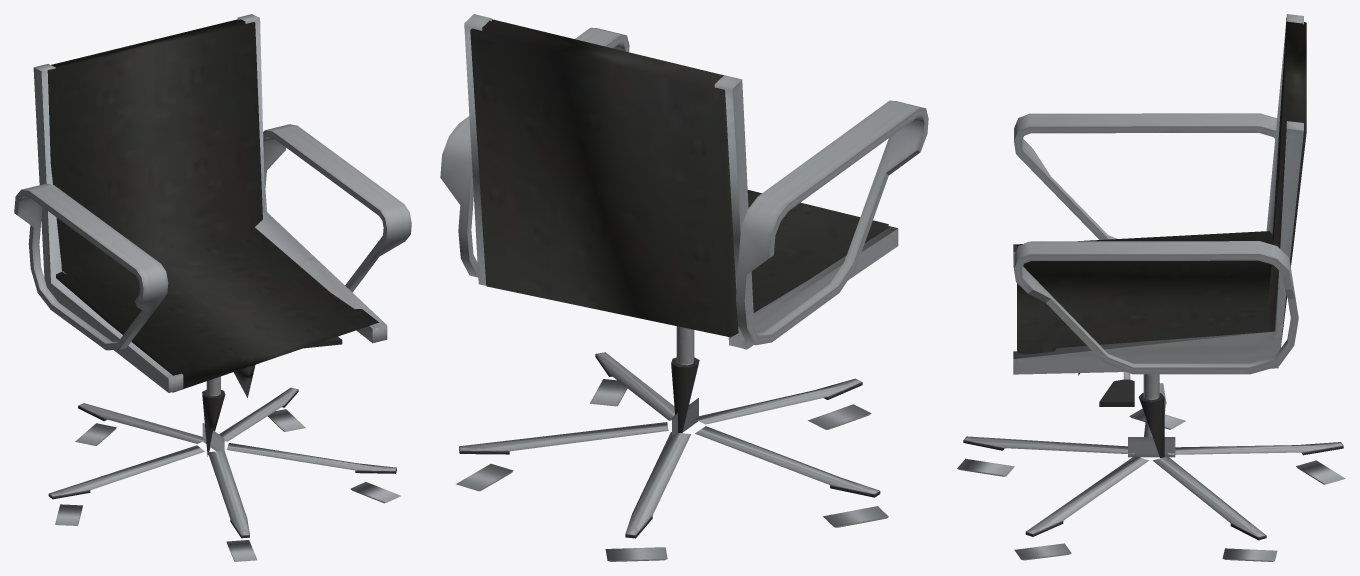
The model's file is office-chair.lod0.glb.
The picture shows the model from 3 angles, left to right: view 1: azimuth 30°, elevation 25°; view 2: azimuth 150°, elevation 25°; view 3: azimuth 270°, elevation 25°; orthographic projection. The views are drawn at different scales.
Parts seen in each view (by area): view 1: OfficeChair_Modern_OfficeChair_Modern_0; view 2: OfficeChair_Modern_OfficeChair_Modern_0; view 3: OfficeChair_Modern_OfficeChair_Modern_0.
Boxes of the visible parts, bbox=[...] form: OfficeChair_Modern_OfficeChair_Modern_0: bbox=[14, 14, 411, 561]; OfficeChair_Modern_OfficeChair_Modern_0: bbox=[440, 14, 928, 561]; OfficeChair_Modern_OfficeChair_Modern_0: bbox=[957, 14, 1345, 561].
Size of the model in its own units: 0.7456 by 0.9429 by 0.7864.
Materials: 1 (1 with a texture image).
